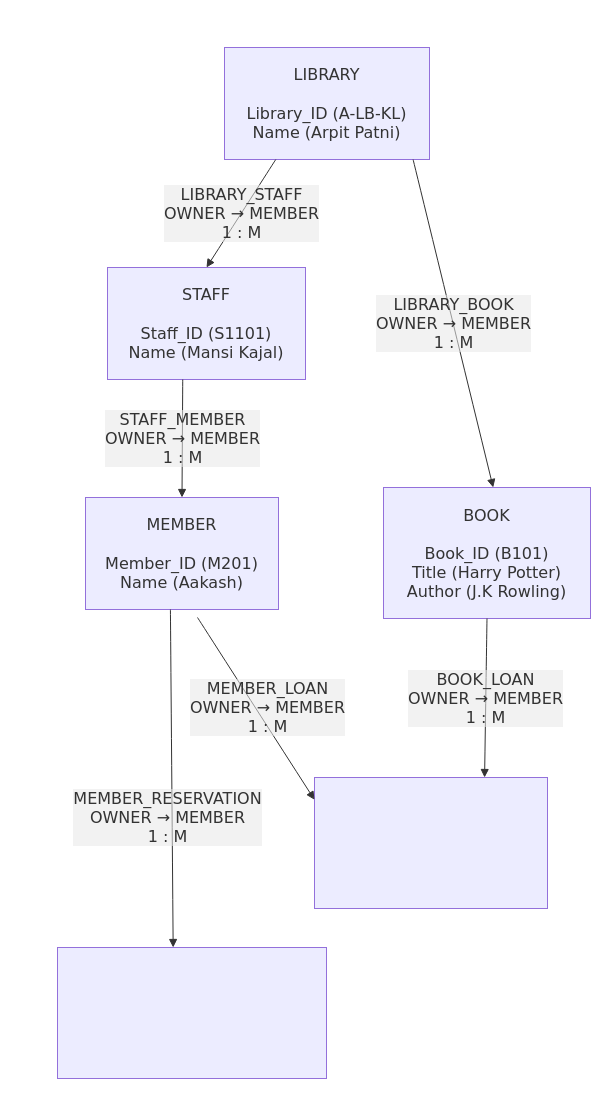
Image size: 608x1096. Some labels were removed from this diagram. The shapes that lost their labels are listed below. From the top down, each one's centre as x and y in pixels, then its label:
point 431,842: LOAN Loan_ID (L112) Issue_Date (12/08/26) Return_Date (20/08/26)
point 191,1012: RESERVATION Reservation_ID (R456) Reservation_Date (10/08/26) Status (Pending)
